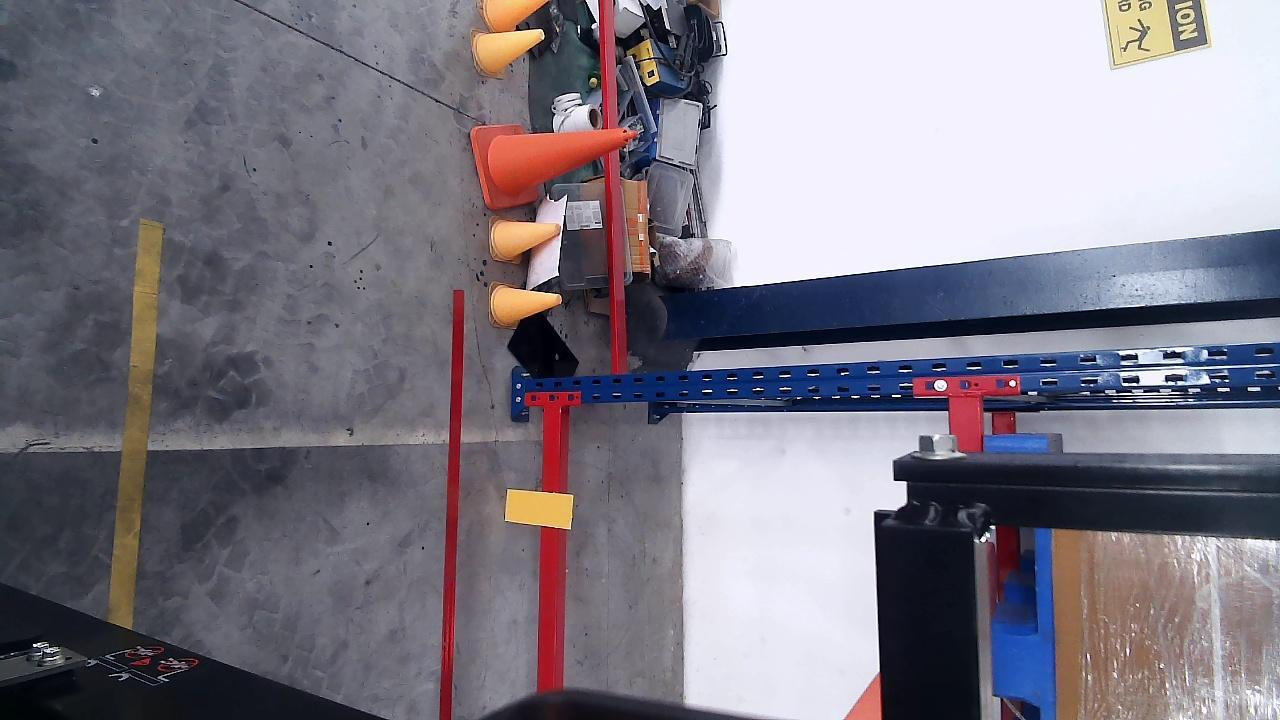h_rack: (539, 406, 558, 692)
orange_strip: (505, 490, 572, 530)
red_line: (441, 292, 463, 720)
yellow_line: (113, 218, 162, 629)
